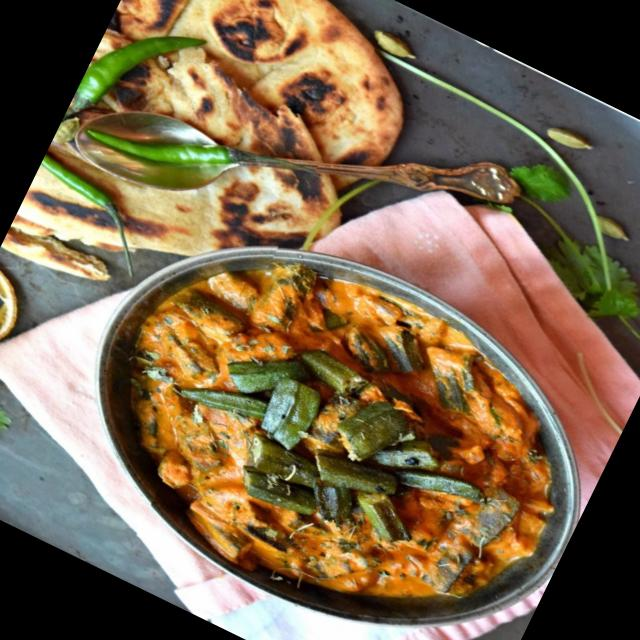BhindiMasala: (52, 194, 621, 640)
